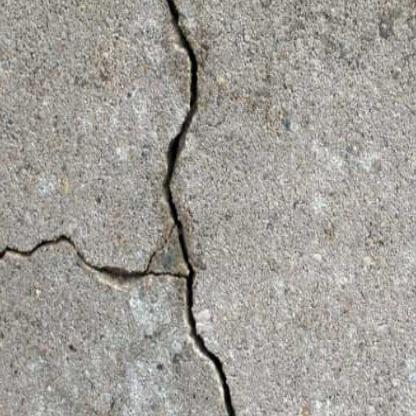Cracks: (0, 0, 245, 416)
